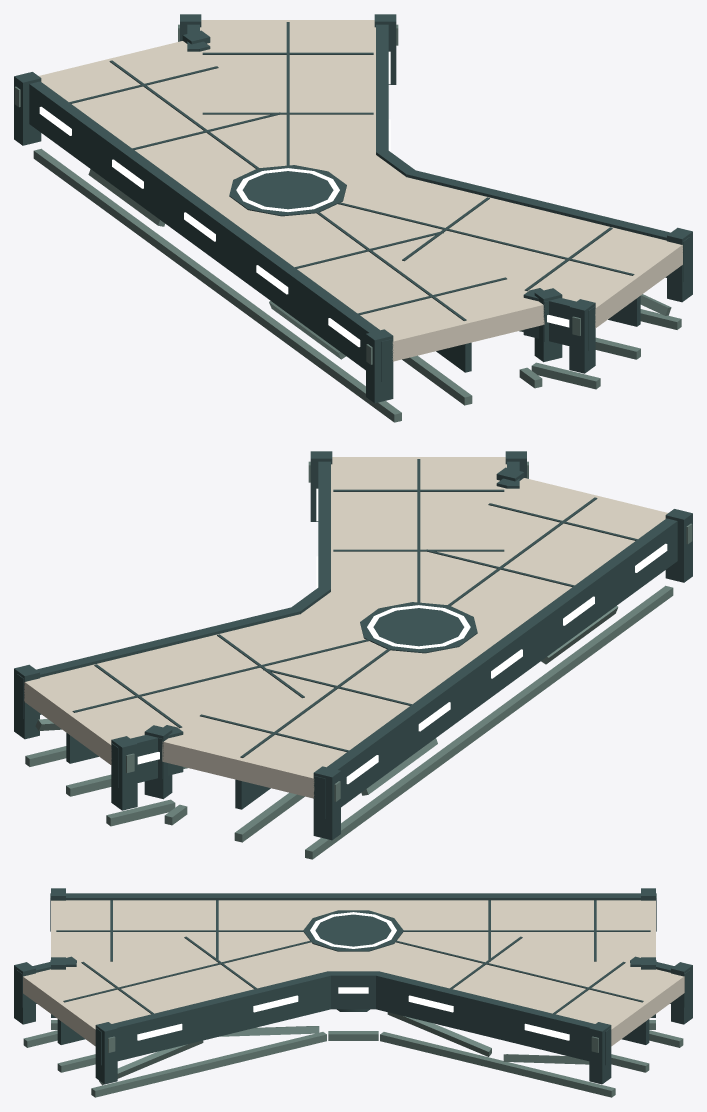
Rendered from Junction_Kletter60_lab.glb.
The picture shows the model from 3 angles, top to bottom: view 1: azimuth 30°, elevation 25°; view 2: azimuth 150°, elevation 25°; view 3: azimuth 270°, elevation 25°; orthographic projection. The views are drawn at different scales.
Visible parts, largest first — view 1: Junction_Kletter60; view 2: Junction_Kletter60; view 3: Junction_Kletter60.
Boxes of the visible parts, x1=… form: Junction_Kletter60: x1=14, y1=14, x2=692, y2=422; Junction_Kletter60: x1=14, y1=451, x2=692, y2=859; Junction_Kletter60: x1=14, y1=888, x2=692, y2=1097.
Size of the model in its own units: 6.42 by 1.58 by 12.8.
